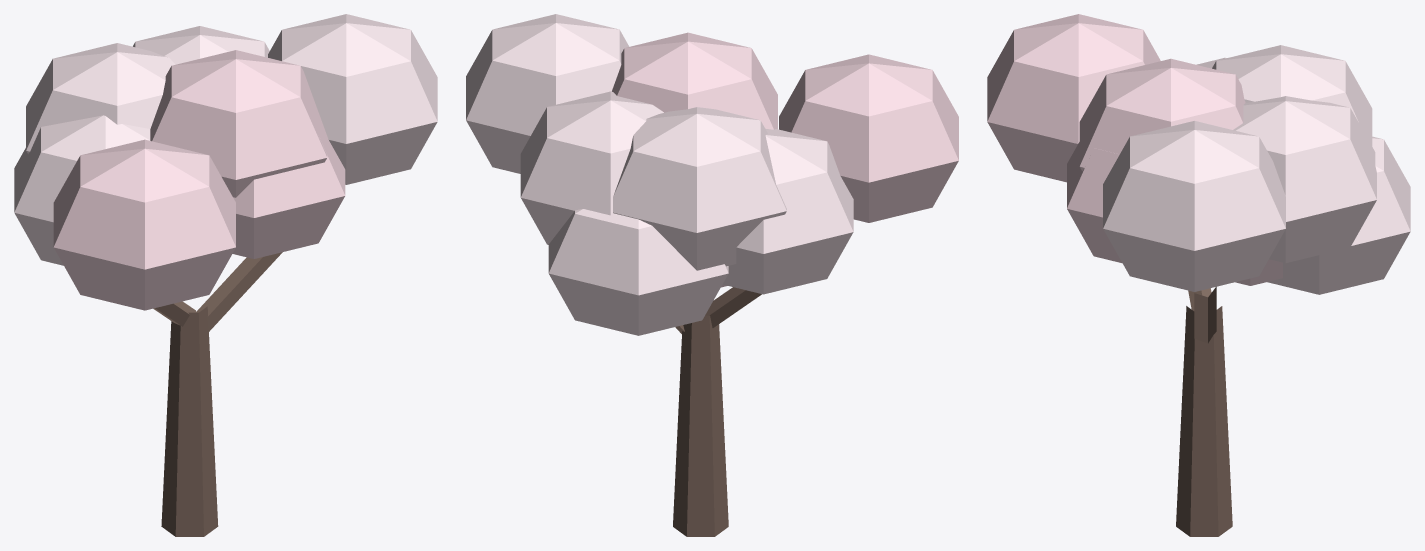
The model's file is sakura_cherry_tree.glb.
3 views of the same model, side by side, from view 1: azimuth 30°, elevation 25°; view 2: azimuth 150°, elevation 25°; view 3: azimuth 270°, elevation 25° (orthographic).
Parts seen in each view (by area): view 1: sakura_cherry_tree; view 2: sakura_cherry_tree; view 3: sakura_cherry_tree.
Part boxes in pixels (x1,y1,x2,y2): sakura_cherry_tree: (14, 14, 437, 536); sakura_cherry_tree: (466, 14, 958, 536); sakura_cherry_tree: (987, 14, 1410, 536).
Size of the model in its own units: 6.29 by 6.43 by 5.21.
